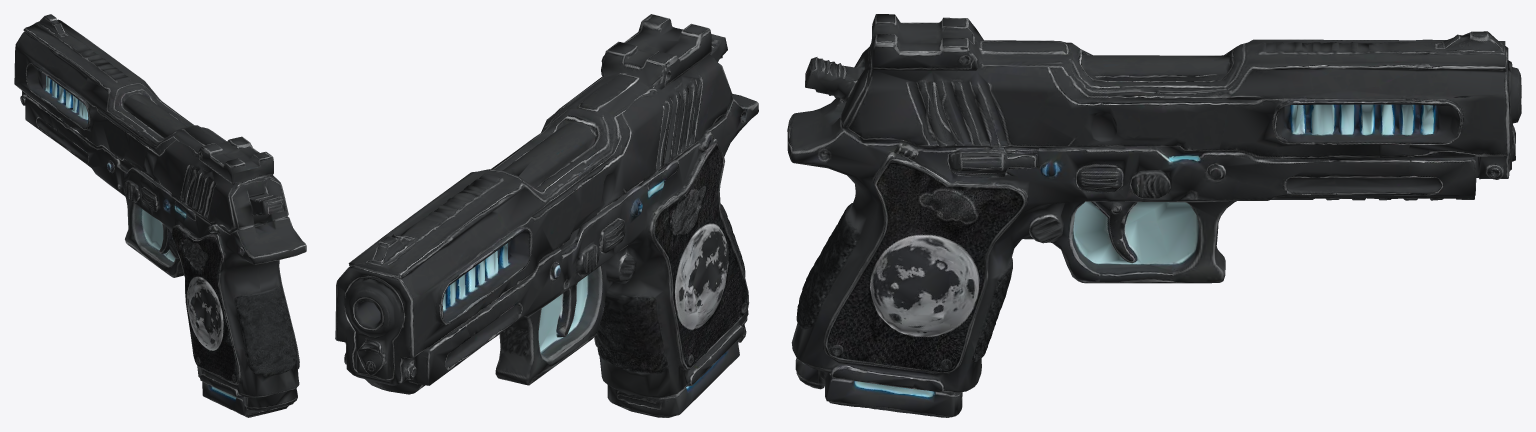
File: pistol-future.glb
3 renders of one model, left to right at view 1: azimuth 30°, elevation 25°; view 2: azimuth 150°, elevation 25°; view 3: azimuth 270°, elevation 25°, orthographic. The views are drawn at different scales.
Visible parts, largest first — view 1: tripo_node_6f75acf5-c51b-48cc-ac5d-06d9357144cd; view 2: tripo_node_6f75acf5-c51b-48cc-ac5d-06d9357144cd; view 3: tripo_node_6f75acf5-c51b-48cc-ac5d-06d9357144cd.
Part boxes in pixels (x1,y1,x2,y2): tripo_node_6f75acf5-c51b-48cc-ac5d-06d9357144cd: (14, 14, 306, 417); tripo_node_6f75acf5-c51b-48cc-ac5d-06d9357144cd: (335, 14, 758, 417); tripo_node_6f75acf5-c51b-48cc-ac5d-06d9357144cd: (787, 14, 1521, 417).
Bounding box in the file's own units: 0.1626 × 0.5552 × 0.9813.
1 material, 1 textured.
